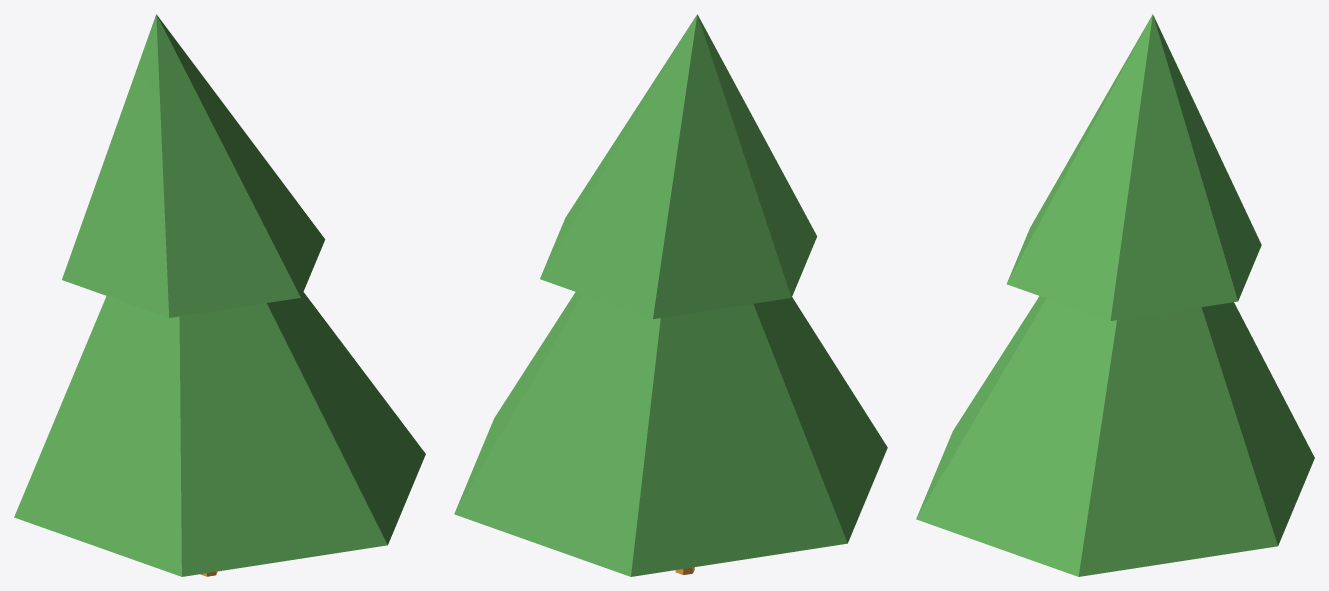
The model's file is tree_08.FBX.
3 views of the same model, side by side, from view 1: azimuth 30°, elevation 25°; view 2: azimuth 150°, elevation 25°; view 3: azimuth 270°, elevation 25° (orthographic). The views are drawn at different scales.
Visible parts, largest first — view 1: tree_08; view 2: tree_08; view 3: tree_08.
Boxes of the visible parts, x1,y1,x2,y2 form: tree_08: (14, 14, 425, 576); tree_08: (454, 14, 887, 576); tree_08: (916, 14, 1314, 576).
Bounding box in the file's own units: 7.1 × 10 × 6.77.
Materials: 1 (1 with a texture image).
